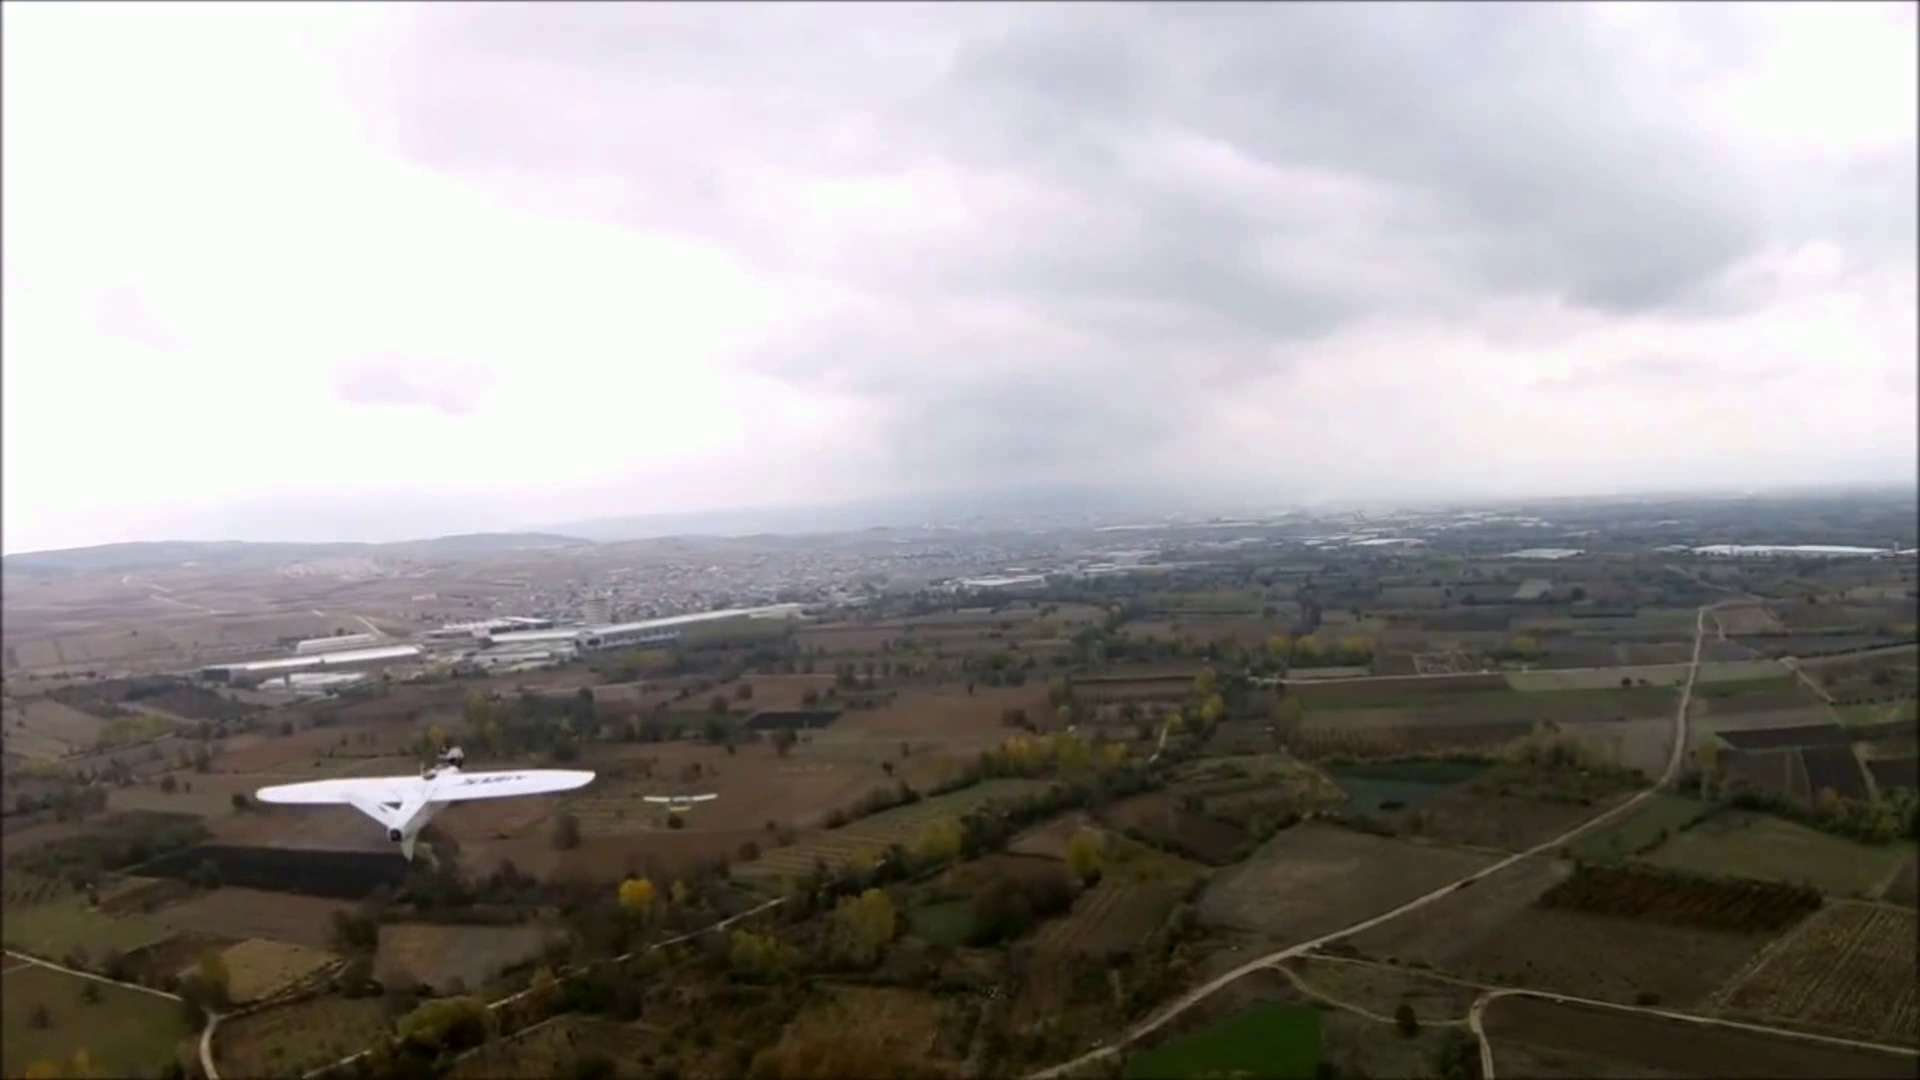airplane: (244, 748, 596, 844)
